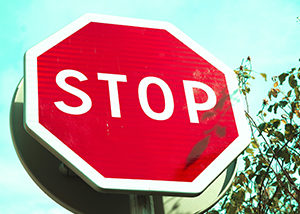stop: (24, 20, 253, 192), (35, 26, 237, 179), (86, 33, 250, 198), (24, 20, 240, 145)
